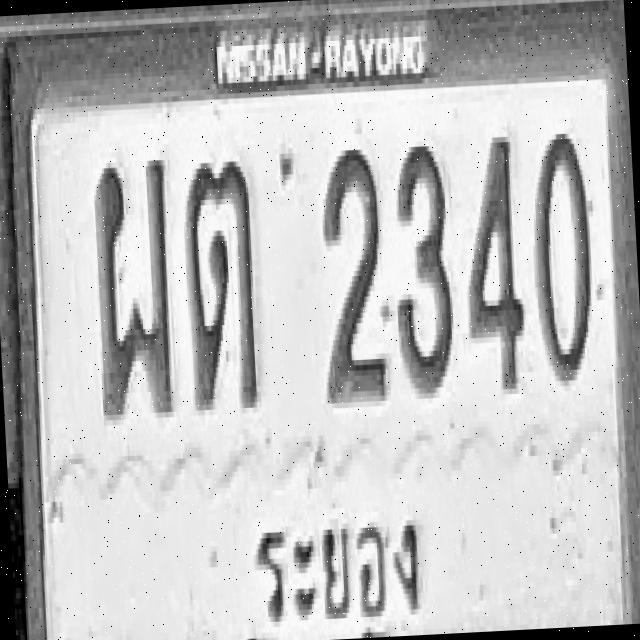0: (530, 127, 598, 382)
2: (314, 144, 389, 404)
3: (388, 140, 456, 395)
30TorTao: (183, 156, 262, 410)
37PhorPhueng: (89, 154, 178, 420)
4: (459, 131, 527, 391)
Rayong: (241, 492, 429, 640)
